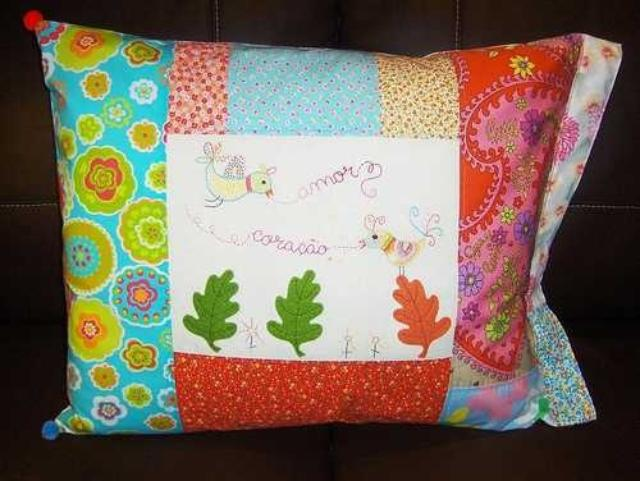pillow: (26, 12, 622, 438)
